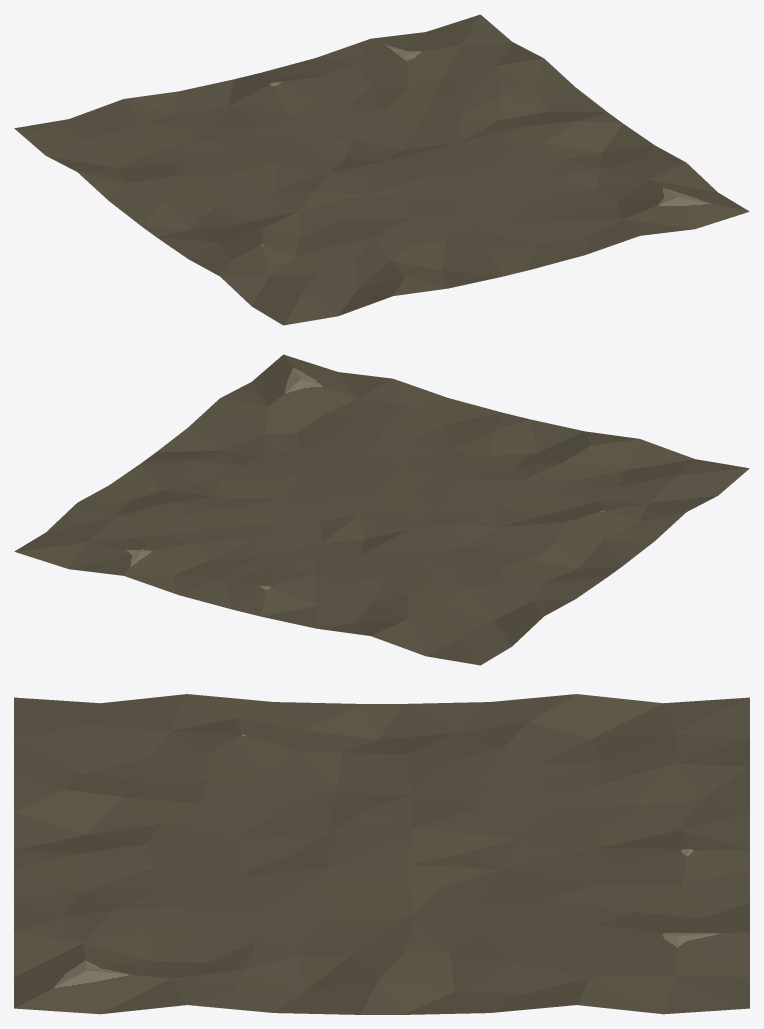
File: Water_01.fbx
3 renders of one model, top to bottom at view 1: azimuth 30°, elevation 25°; view 2: azimuth 150°, elevation 25°; view 3: azimuth 270°, elevation 25°, orthographic. The views are drawn at different scales.
Visible parts, largest first — view 1: Water_01; view 2: Water_01; view 3: Water_01.
Part boxes in pixels (left/top/right/bottom): Water_01: left=14, top=14, right=749, bottom=325; Water_01: left=14, top=354, right=749, bottom=665; Water_01: left=14, top=694, right=749, bottom=1014.
Bounding box in the file's own units: 100 × 3.72 × 100.
1 material, 1 textured.
